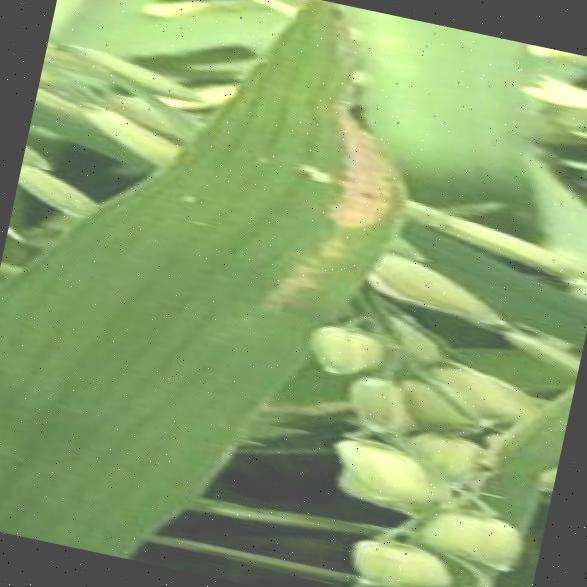Bacteria_Leaf_Blight: (151, 0, 423, 336)
